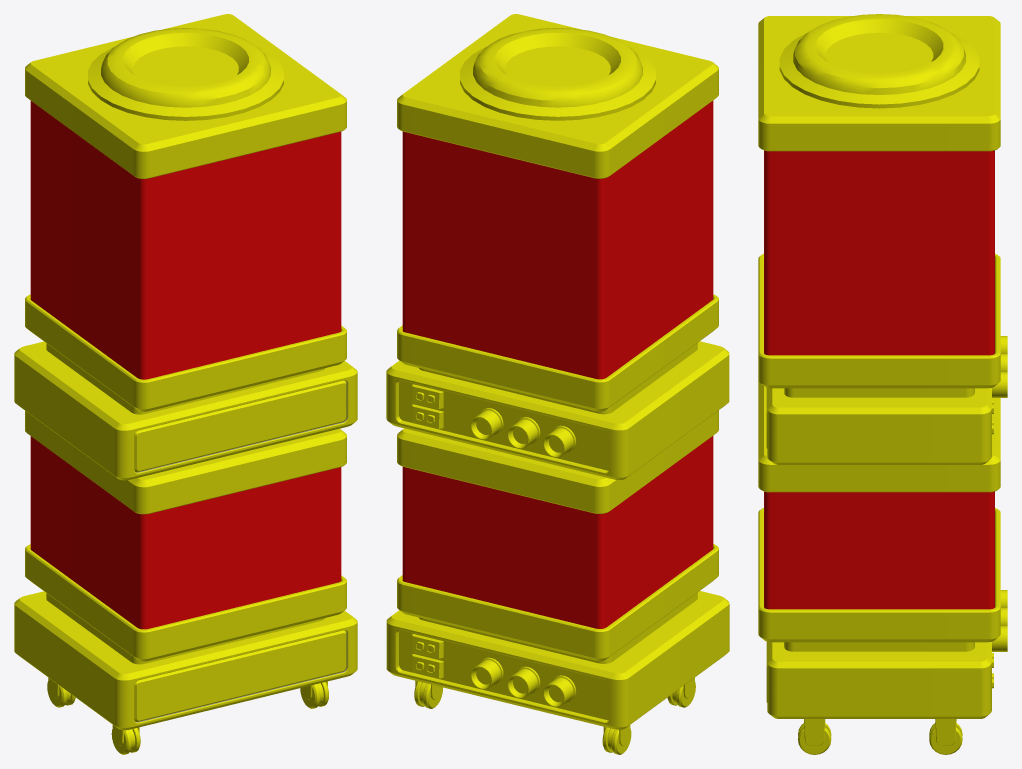
File: Equipment_4.fbx
3 renders of one model, left to right at view 1: azimuth 30°, elevation 25°; view 2: azimuth 150°, elevation 25°; view 3: azimuth 270°, elevation 25°, orthographic.
Visible parts, largest first — view 1: L8:pCylinder48; view 2: L8:pCylinder48; view 3: L8:pCylinder48.
Part boxes in pixels (bbox=[...]): L8:pCylinder48: bbox=[14, 14, 357, 754]; L8:pCylinder48: bbox=[386, 14, 729, 754]; L8:pCylinder48: bbox=[758, 14, 1007, 754].
Size of the model in its own units: 98.96 by 253 by 86.99.
